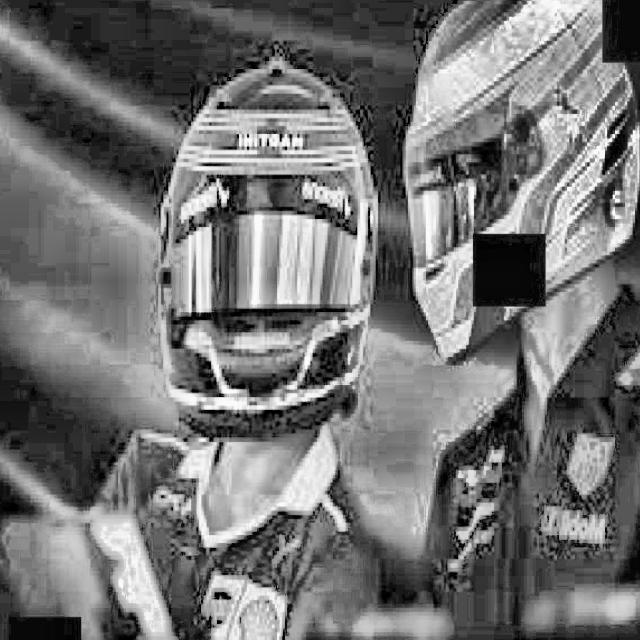Helmet: (116, 51, 380, 440), (401, 0, 640, 376)
